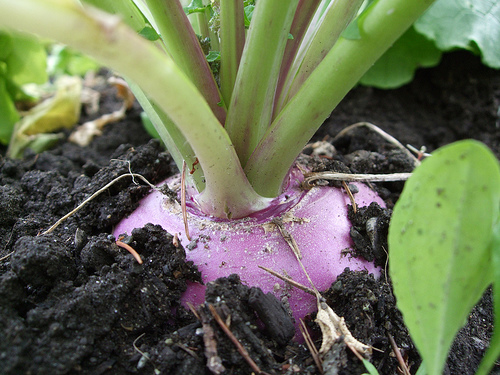turnip: (0, 0, 499, 346)
